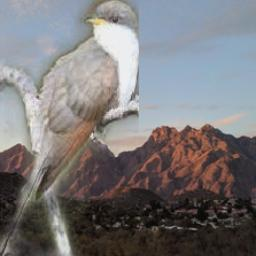Cuckoo: (0, 0, 140, 256)
